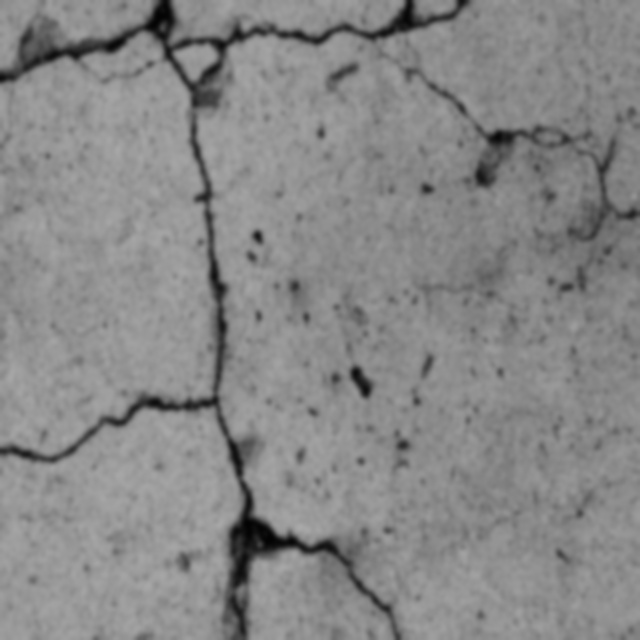SurfaceCrack: (1, 358, 227, 488)
